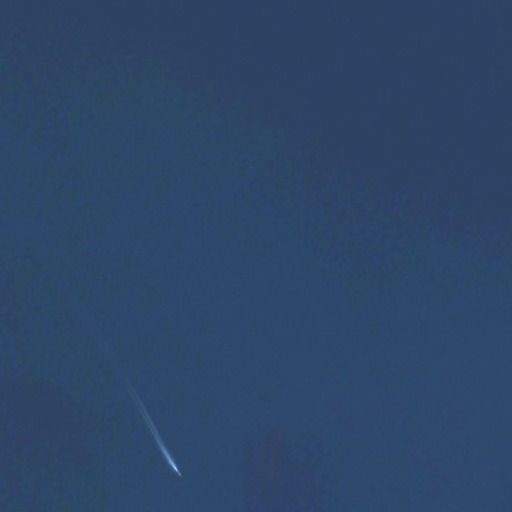ship: (171, 466, 185, 481)
